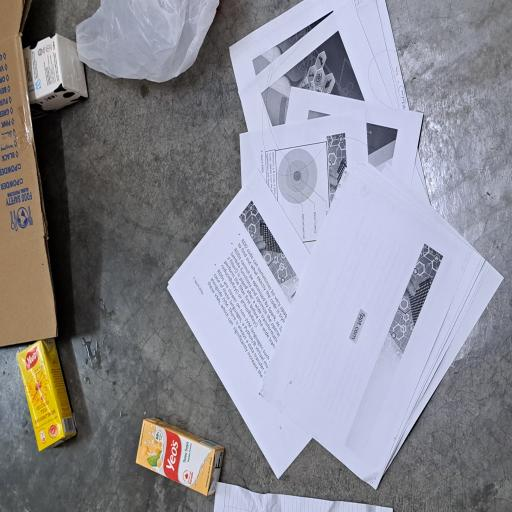cardboard: (121, 0, 384, 79)
drink carton: (13, 178, 71, 301), (46, 21, 130, 103), (298, 32, 358, 118)
paper: (17, 223, 383, 512), (0, 282, 23, 512)
plastic bag: (322, 102, 384, 293)
